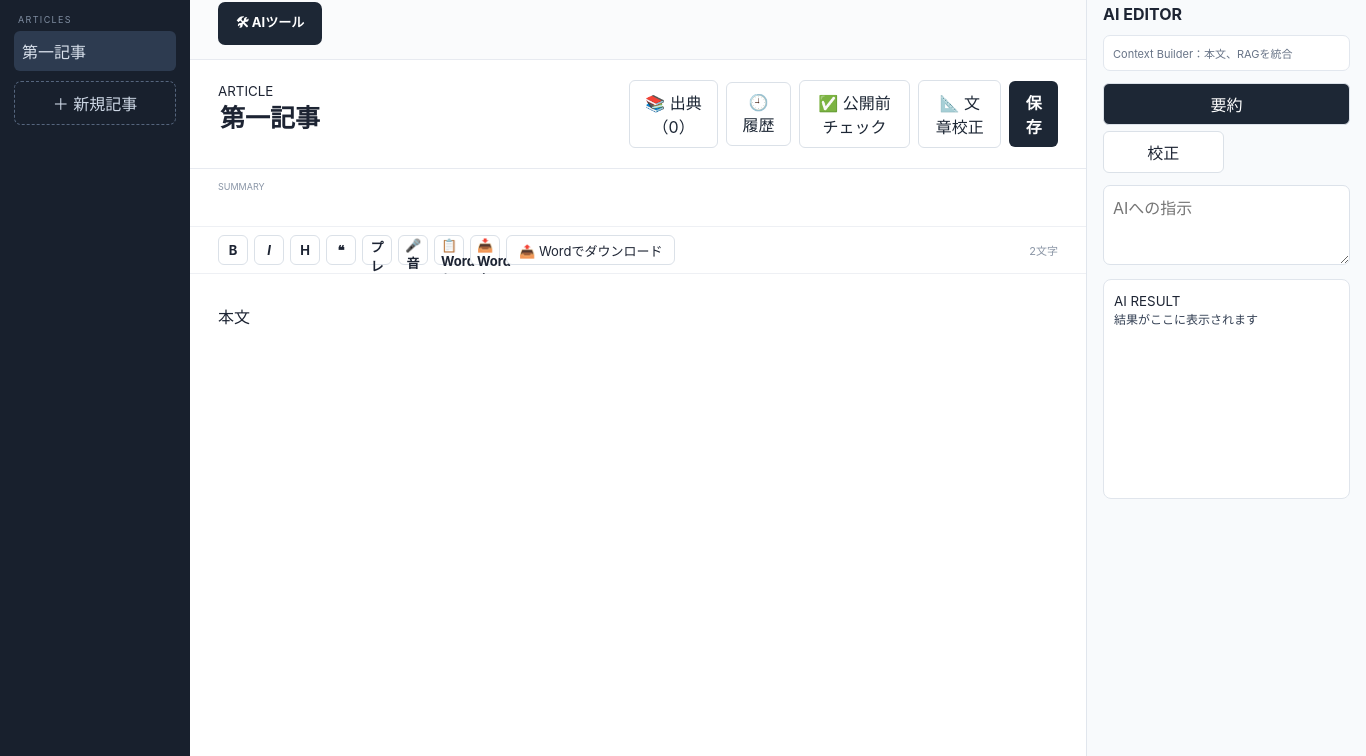
it: WritePanel › walks through proofread diffs one at a time and applies the accepted ones
Click the button "📐 文章校正": (960, 114) [918,80,1001,148]
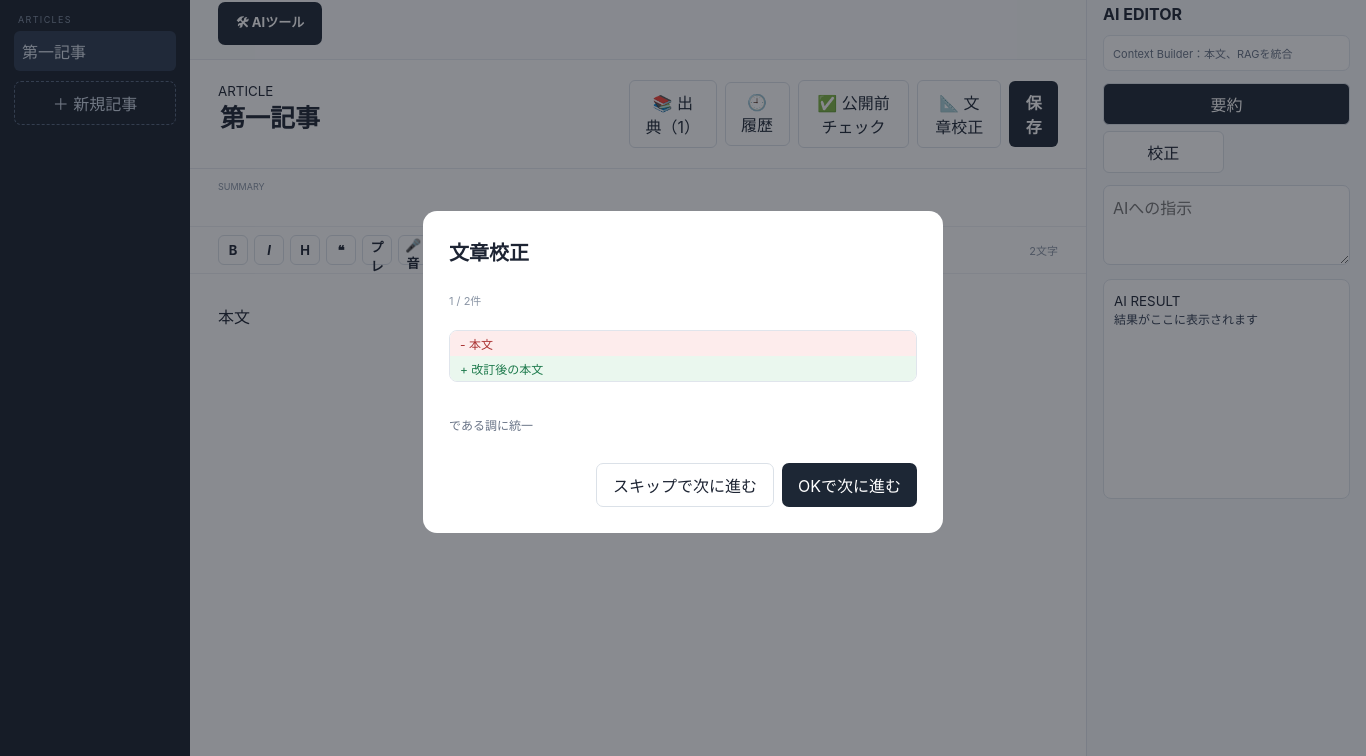
Expected: the text "1 / 2件" is shown, [449,294,481,308]
Click the button "OKで次に進む": (850, 485) [782,463,917,507]
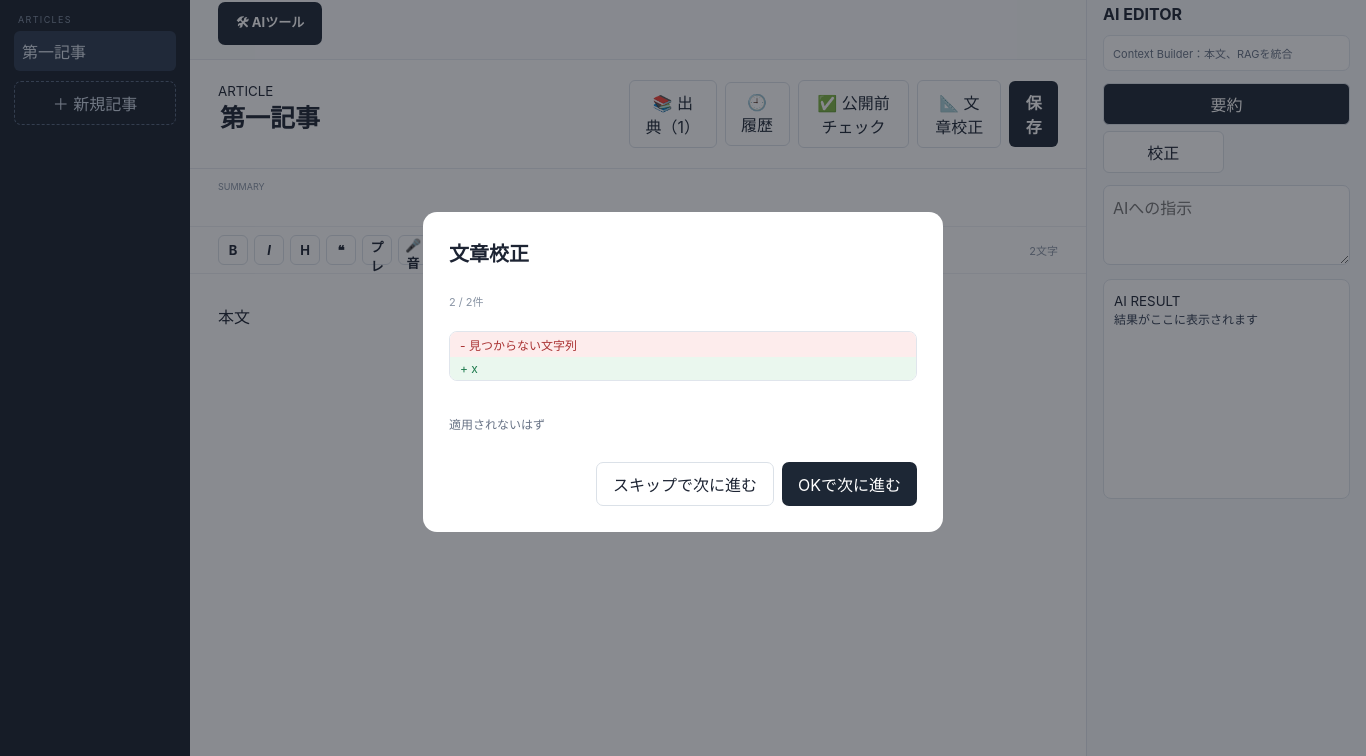
Expected: the text "2 / 2件" is shown, [449,295,484,309]
Click the button "スキップで次に進む": (685, 484) [596,462,774,506]
(page scrolled)
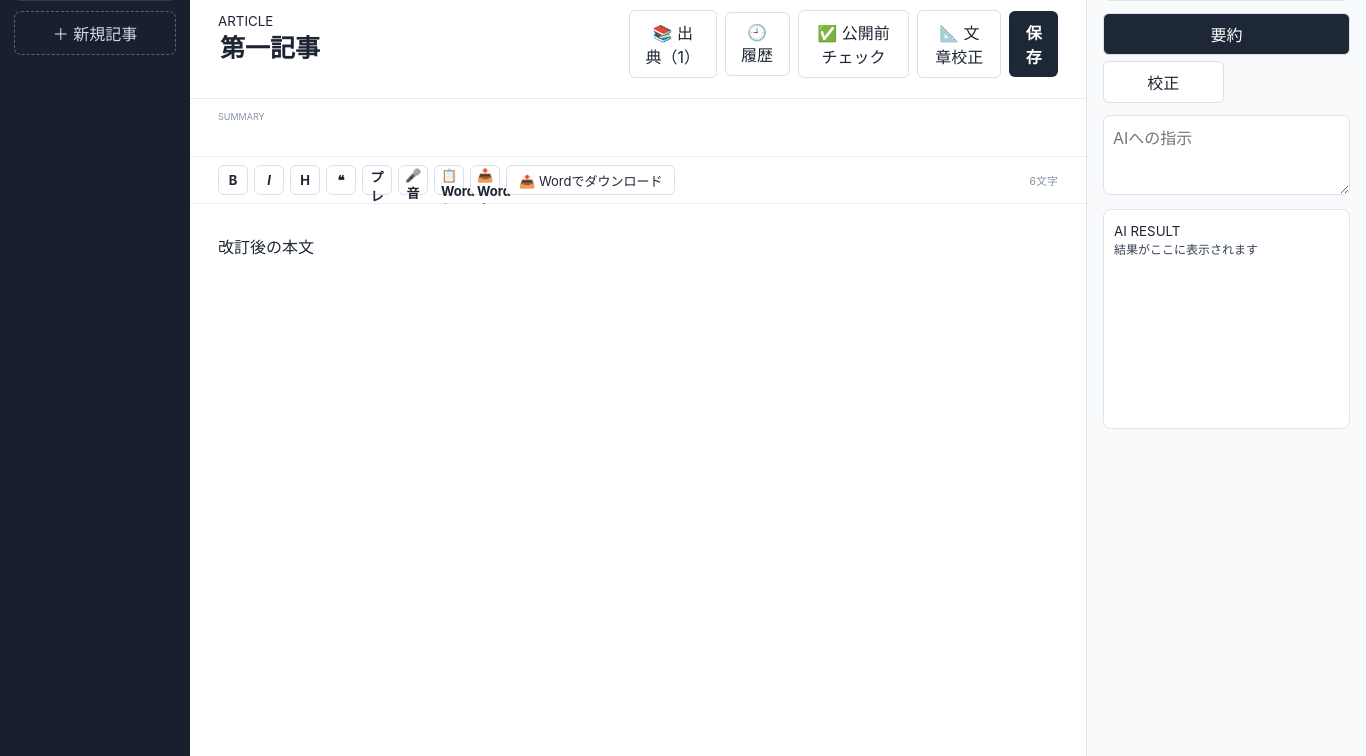
Expected: the text box showing "改訂後の本文" is shown, [190,204,1086,752]
